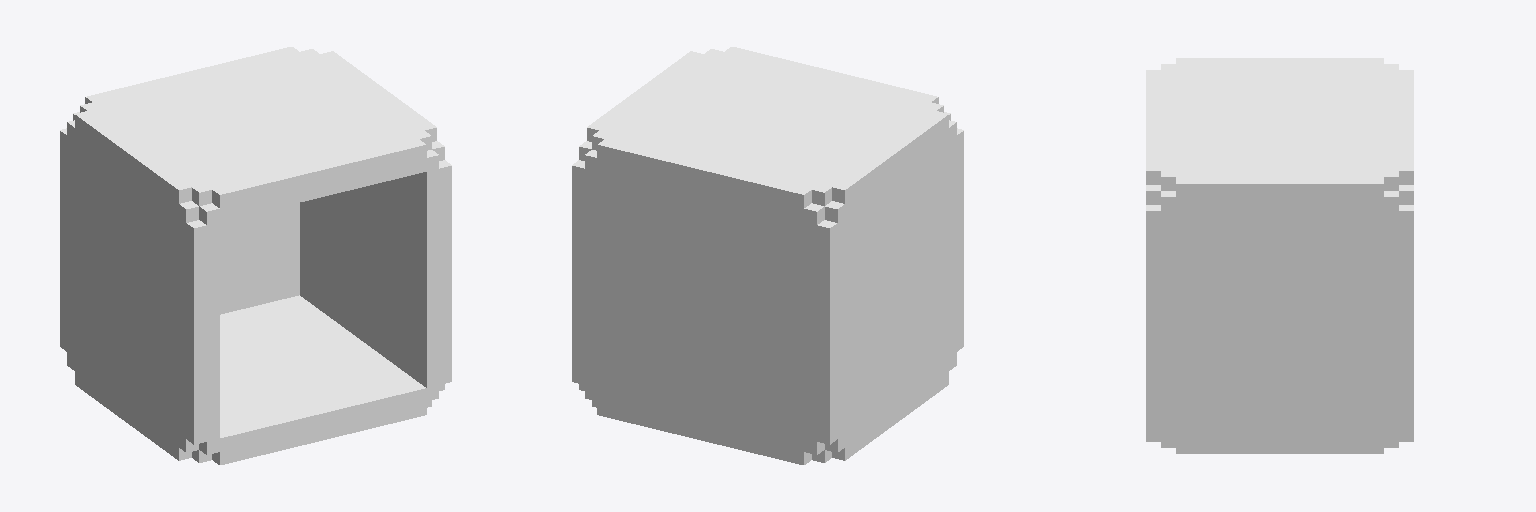
Rendered from Safe.obj.
3 renders of one model, left to right at view 1: azimuth 30°, elevation 25°; view 2: azimuth 150°, elevation 25°; view 3: azimuth 270°, elevation 25°, orthographic.
Parts seen in each view (by area): view 1: object 1; view 2: object 1; view 3: object 1.
Part boxes in pixels (x1,y1,x2,y2): object 1: (60, 47, 451, 464); object 1: (572, 47, 963, 464); object 1: (1146, 58, 1413, 453).
Bounding box in the file's own units: 2 × 2 × 1.8.